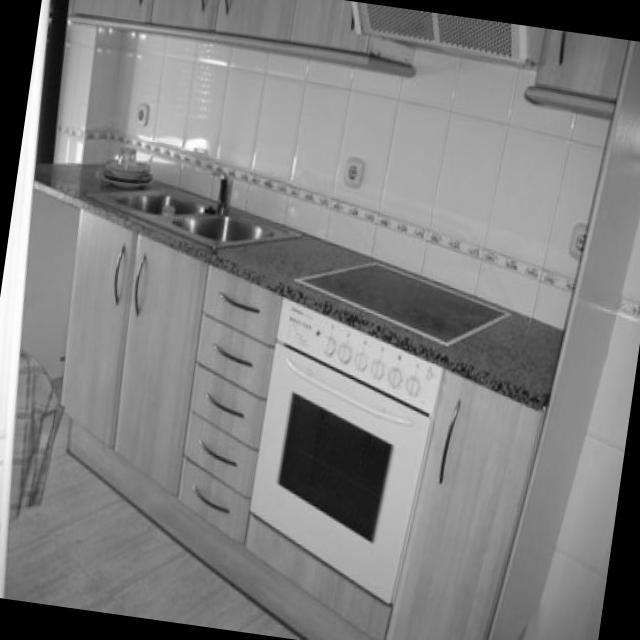2032: (9, 453, 295, 637)
cabinet door: (384, 372, 544, 640), (533, 28, 628, 100), (290, 0, 367, 52), (213, 0, 296, 40), (151, 0, 216, 33), (67, 0, 153, 21)
cabinets: (60, 207, 283, 542)
cooktop: (297, 261, 506, 345)
dishes crop: (101, 161, 151, 181)
extractor hood: (357, 2, 521, 63)
handle bar: (285, 357, 412, 424), (438, 398, 463, 486), (215, 289, 261, 318), (199, 435, 237, 468), (194, 481, 230, 513), (205, 390, 245, 418), (213, 342, 253, 368), (132, 251, 148, 314), (113, 243, 127, 303)
kitchen floor -X: (176, 267, 282, 544)
knobs: (318, 336, 423, 399)
oven cloth: (247, 298, 446, 609), (250, 297, 442, 605)
plug point: (339, 159, 365, 186), (570, 224, 587, 260), (135, 102, 149, 126)
sink basin: (86, 168, 305, 253)
stove top: (288, 258, 512, 349)
tablecloth: (12, 350, 61, 516)
tile wall: (379, 100, 448, 226)
